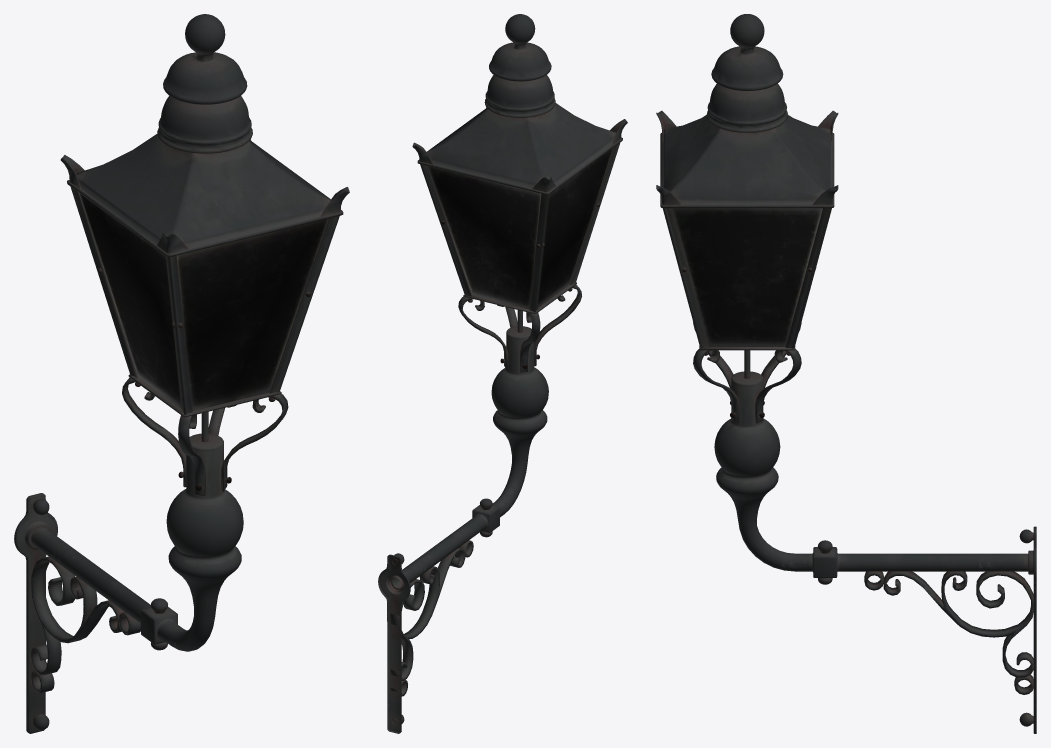
File: street_lamp_02.glb
3 views of the same model, side by side, from view 1: azimuth 30°, elevation 25°; view 2: azimuth 150°, elevation 25°; view 3: azimuth 270°, elevation 25° (orthographic). The views are drawn at different scales.
Parts seen in each view (by area): view 1: street_lamp_02; view 2: street_lamp_02; view 3: street_lamp_02.
Part boxes in pixels (bbox=[...]): street_lamp_02: bbox=[14, 14, 349, 733]; street_lamp_02: bbox=[378, 14, 627, 733]; street_lamp_02: bbox=[656, 14, 1036, 733].
Size of the model in its own units: 0.3864 by 1.67 by 0.8068.
2 materials, 2 textured.
